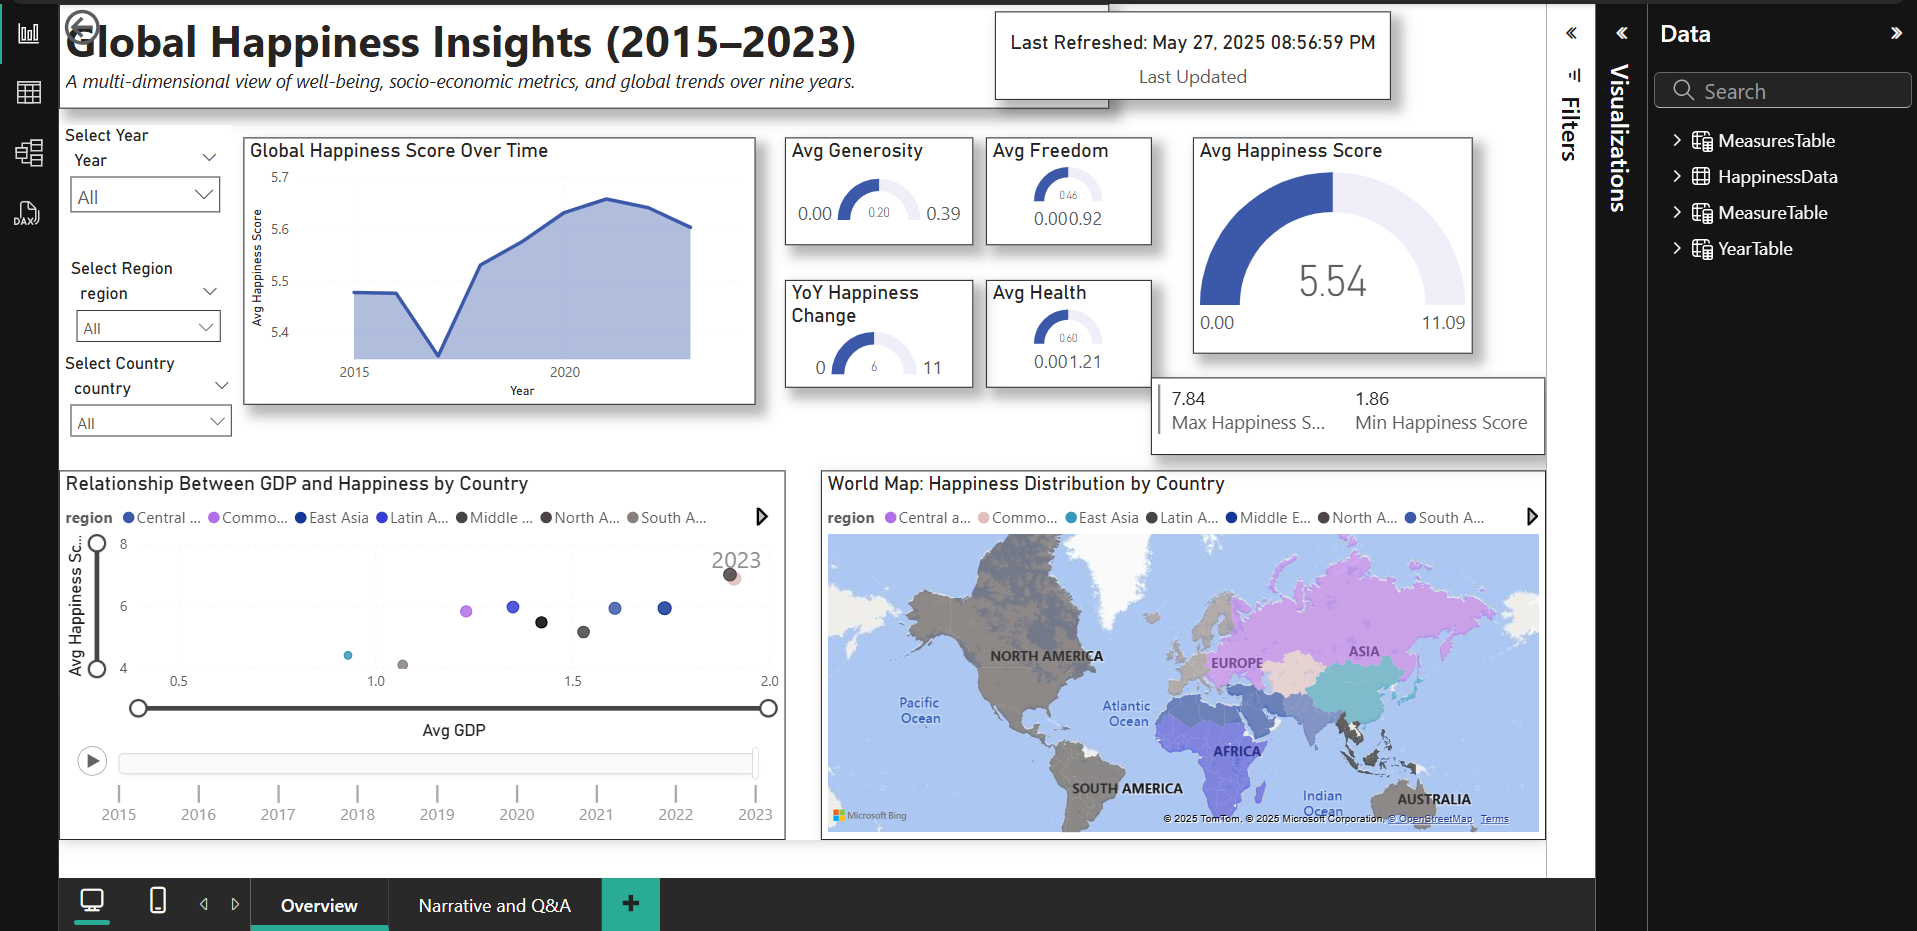

This screenshot's page, from the dashboard's own definition file:
{"tool":"powerbi","page":{"name":"Overview","canvas":[1280,720],"ordinal":0},"visuals":[{"type":"textbox","box":[0,0,903.7,90],"z":0},{"type":"card","fields":{"Values":["Last Updated.Last Updated"]},"box":[805.6,6.1,340.7,75.7],"z":1000},{"type":"slicer","title":"Select Year","fields":{"Values":["YearTable.Year"]},"box":[0,104.5,148.4,86.3],"z":2000},{"type":"slicer","title":"Select Country","fields":{"Values":["HappinessData.country"]},"box":[0,301.3,159,86.3],"z":3000},{"type":"slicer","title":"Select Region","fields":{"Values":["HappinessData.region"]},"box":[4.5,219.6,143.8,81.8],"z":4000},{"type":"gauge","fields":{"Y":["MeasuresTable.Avg Generosity"]},"box":[625.4,115.1,162,92.4],"z":5000},{"type":"filledMap","title":"World Map: Happiness Distribution by Country ","fields":{"Category":["HappinessData.country"],"Series":["HappinessData.region"]},"box":[655.7,401.3,623.9,318],"z":6000},{"type":"actionButton","box":[0,0,100,40],"z":7000},{"type":"lineChart","title":"Global Happiness Score Over Time","fields":{"Category":["YearTable.Year"],"Y":["MeasuresTable.Avg Happiness Score"]},"box":[159,115.1,440.6,230.2],"z":8000},{"type":"scatterChart","title":"Relationship Between GDP and Happiness by Country","fields":{"X":["MeasuresTable.Avg GDP"],"Y":["MeasuresTable.Avg Happiness Score"],"Play":["YearTable.Year"],"Size":["MeasuresTable.Avg Health"],"Series":["HappinessData.region"]},"box":[0,401.3,625.4,318],"z":9000},{"type":"gauge","fields":{"Y":["MeasuresTable.Avg Health"]},"box":[798,237.7,142.3,92.4],"z":10000},{"type":"gauge","fields":{"Y":["MeasuresTable.Avg Freedom"]},"box":[798,115.1,142.3,92.4],"z":11000},{"type":"gauge","fields":{"Y":["MeasuresTable.Avg Happiness Score"]},"box":[976.7,115.1,240.8,186.2],"z":12000},{"type":"gauge","fields":{"Y":["MeasuresTable.YoY Happiness Change"]},"box":[625.4,237.7,162,92.4],"z":13000},{"type":"multiRowCard","fields":{"Values":["MeasuresTable.Max Happiness Score","MeasuresTable.Min Happiness Score"]},"box":[940.3,321,339.2,66.6],"z":14000}]}

Visuals, with their boxes on the page's 1280x720 design canvas (x1, y1, x2, y2). These are canvas units, not pixel positions in the 1917x931 screenshot, which may show the page scaled, cropped or inside an application window:
textbox: region(0, 0, 904, 90)
card - Last Updated.Last Updated: region(806, 6, 1146, 82)
"Select Year" slicer: region(0, 104, 148, 191)
"Select Country" slicer: region(0, 301, 159, 388)
"Select Region" slicer: region(4, 220, 148, 301)
gauge - MeasuresTable.Avg Generosity: region(625, 115, 787, 208)
"World Map: Happiness Distribution by Country " filledMap: region(656, 401, 1280, 719)
actionButton: region(0, 0, 100, 40)
"Global Happiness Score Over Time" lineChart: region(159, 115, 600, 345)
"Relationship Between GDP and Happiness by Country" scatterChart: region(0, 401, 625, 719)
gauge - MeasuresTable.Avg Health: region(798, 238, 940, 330)
gauge - MeasuresTable.Avg Freedom: region(798, 115, 940, 208)
gauge - MeasuresTable.Avg Happiness Score: region(977, 115, 1218, 301)
gauge - MeasuresTable.YoY Happiness Change: region(625, 238, 787, 330)
multiRowCard - MeasuresTable.Max Happiness Score x MeasuresTable.Min Happiness Score: region(940, 321, 1280, 388)
